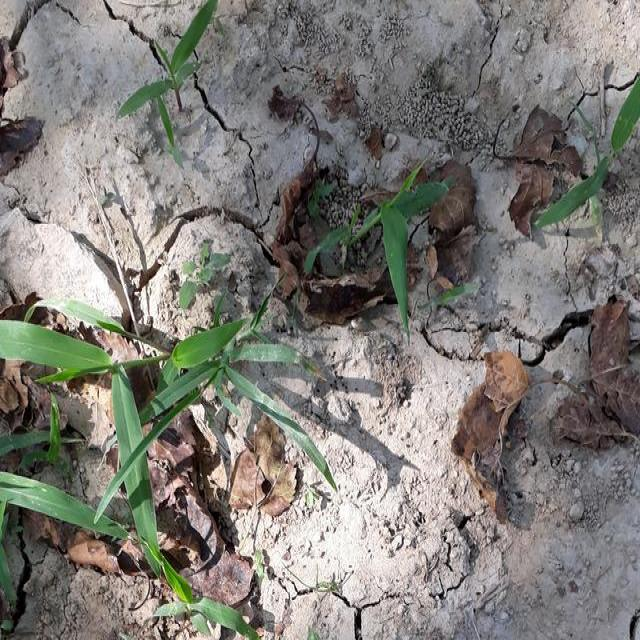weed: (0, 279, 274, 577)
